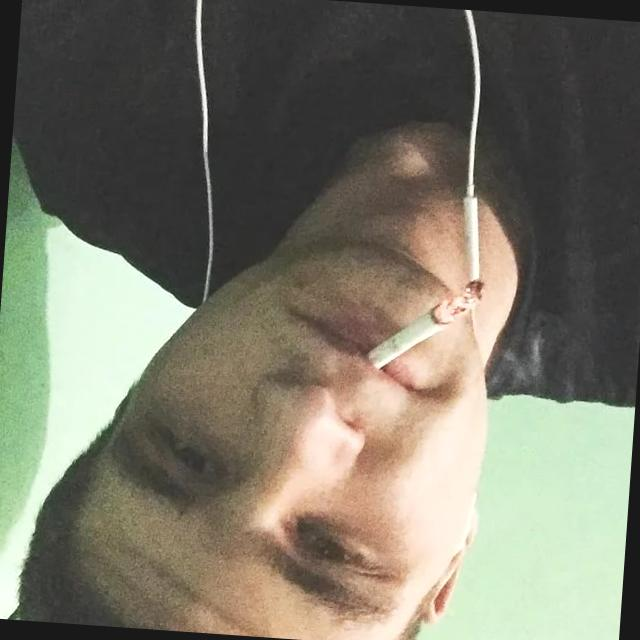cigarette: (356, 265, 485, 373)
